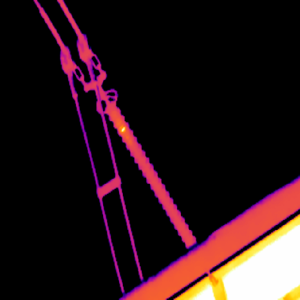insulator: (104, 98, 195, 247)
